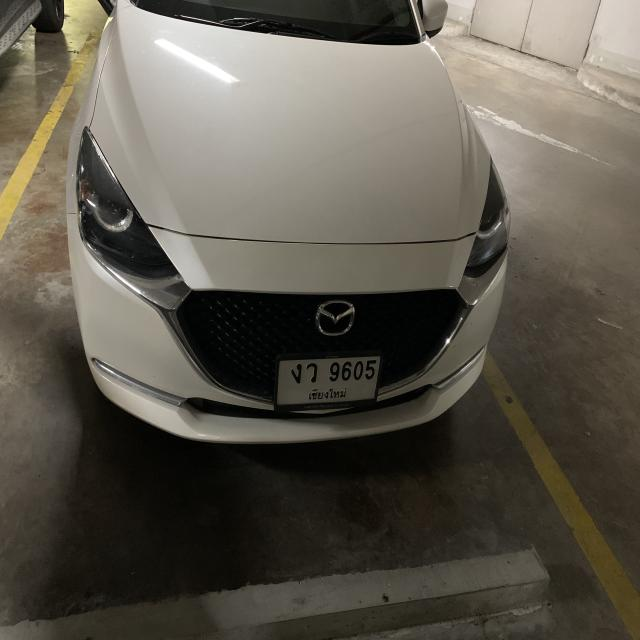license_plate: (273, 351, 380, 412)
